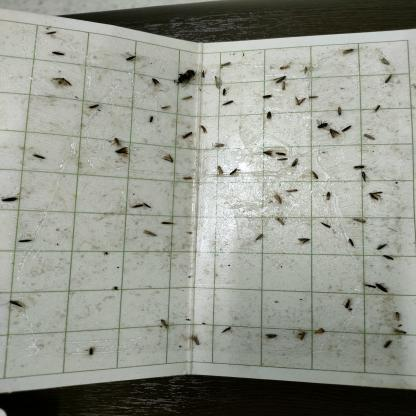prays_oleae: (52, 70, 76, 100), (5, 292, 28, 322), (175, 63, 198, 88), (30, 140, 49, 168), (365, 185, 388, 207), (156, 315, 171, 348), (130, 196, 152, 217), (122, 47, 140, 72), (292, 328, 308, 349), (50, 43, 67, 62), (296, 232, 312, 252), (220, 96, 238, 113), (219, 318, 231, 343), (308, 168, 323, 188), (343, 293, 355, 318), (262, 325, 276, 346), (17, 231, 30, 252), (374, 277, 390, 294), (314, 118, 329, 136), (351, 211, 370, 225), (148, 70, 161, 90), (86, 98, 102, 114), (392, 323, 409, 338), (145, 107, 156, 130), (186, 331, 200, 349), (346, 230, 356, 255), (341, 42, 357, 57), (110, 134, 124, 151), (3, 192, 21, 205), (361, 131, 379, 144), (382, 70, 395, 88), (380, 336, 393, 354), (380, 53, 392, 72), (182, 170, 194, 187), (312, 323, 324, 340), (276, 210, 286, 230), (378, 253, 398, 263), (316, 216, 330, 230), (340, 122, 354, 136), (142, 228, 158, 240), (288, 154, 300, 170), (180, 129, 194, 142), (212, 164, 226, 177), (180, 91, 194, 104), (228, 164, 240, 179), (274, 72, 292, 82), (264, 146, 274, 164), (163, 217, 179, 228), (220, 61, 236, 72), (271, 190, 282, 206), (395, 307, 404, 326), (212, 137, 226, 149), (159, 103, 171, 117), (260, 88, 274, 100), (254, 230, 266, 244), (278, 59, 293, 70), (375, 237, 390, 248), (286, 184, 298, 197), (309, 90, 320, 104), (294, 94, 305, 107), (352, 161, 368, 168), (199, 125, 208, 136), (374, 101, 382, 113), (360, 171, 367, 180)
